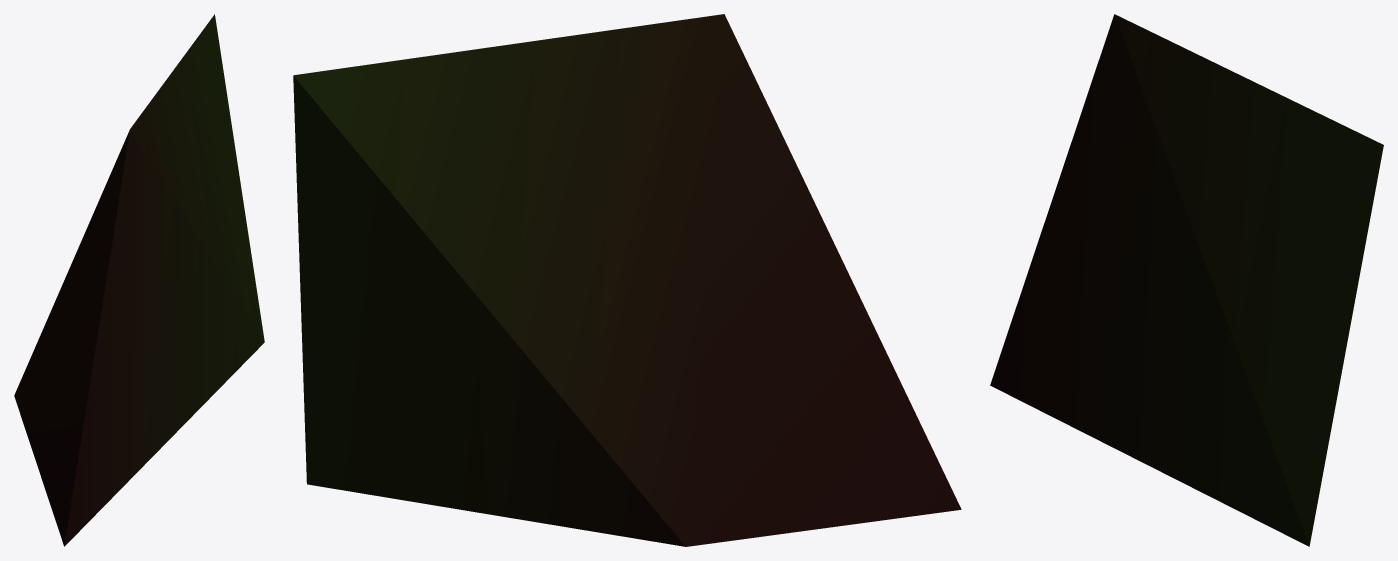
File: tf_talus_chunk_7_lod2.glb
3 renders of one model, left to right at view 1: azimuth 30°, elevation 25°; view 2: azimuth 150°, elevation 25°; view 3: azimuth 270°, elevation 25°, orthographic. The views are drawn at different scales.
Parts seen in each view (by area): view 1: tf_talus_chunk_7_lod2; view 2: tf_talus_chunk_7_lod2; view 3: tf_talus_chunk_7_lod2.
Boxes of the visible parts, x1,y1,x2,y2 form: tf_talus_chunk_7_lod2: [14, 14, 264, 546]; tf_talus_chunk_7_lod2: [293, 14, 961, 546]; tf_talus_chunk_7_lod2: [990, 14, 1383, 546].
Bounding box in the file's own units: 0.879 × 0.9043 × 0.7303.
